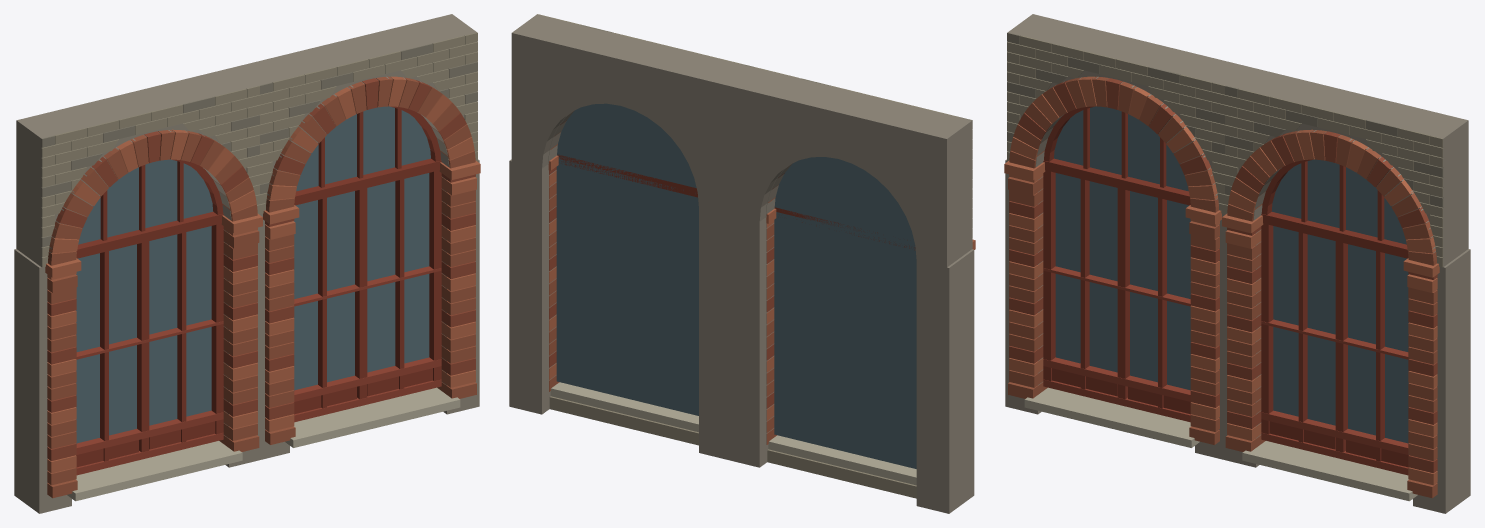
The model's file is hongkou-shanyin-274-paired-brick-arches-lod.glb.
3 views of the same model, side by side, from view 1: azimuth 30°, elevation 25°; view 2: azimuth 150°, elevation 25°; view 3: azimuth 330°, elevation 25° (orthographic).
Visible parts, largest first — view 1: 山阴路274弄住宅成对红砖券窗与木格上亮; view 2: 山阴路274弄住宅成对红砖券窗与木格上亮; view 3: 山阴路274弄住宅成对红砖券窗与木格上亮.
Part boxes in pixels (x1,y1,x2,y2): 山阴路274弄住宅成对红砖券窗与木格上亮: [14, 14, 480, 513]; 山阴路274弄住宅成对红砖券窗与木格上亮: [509, 14, 975, 513]; 山阴路274弄住宅成对红砖券窗与木格上亮: [1004, 14, 1470, 513].
Size of the model in its own units: 2.82 by 2.29 by 0.374.
